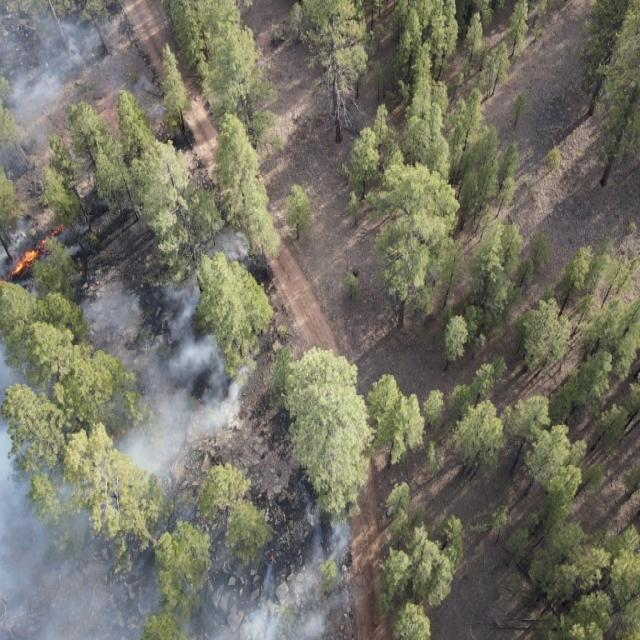fire: (0, 219, 67, 283), (96, 412, 126, 442), (77, 269, 85, 279), (268, 552, 276, 562), (198, 494, 204, 501), (199, 519, 204, 525)
smoke: (0, 217, 261, 640), (0, 1, 128, 157), (261, 509, 358, 640)
